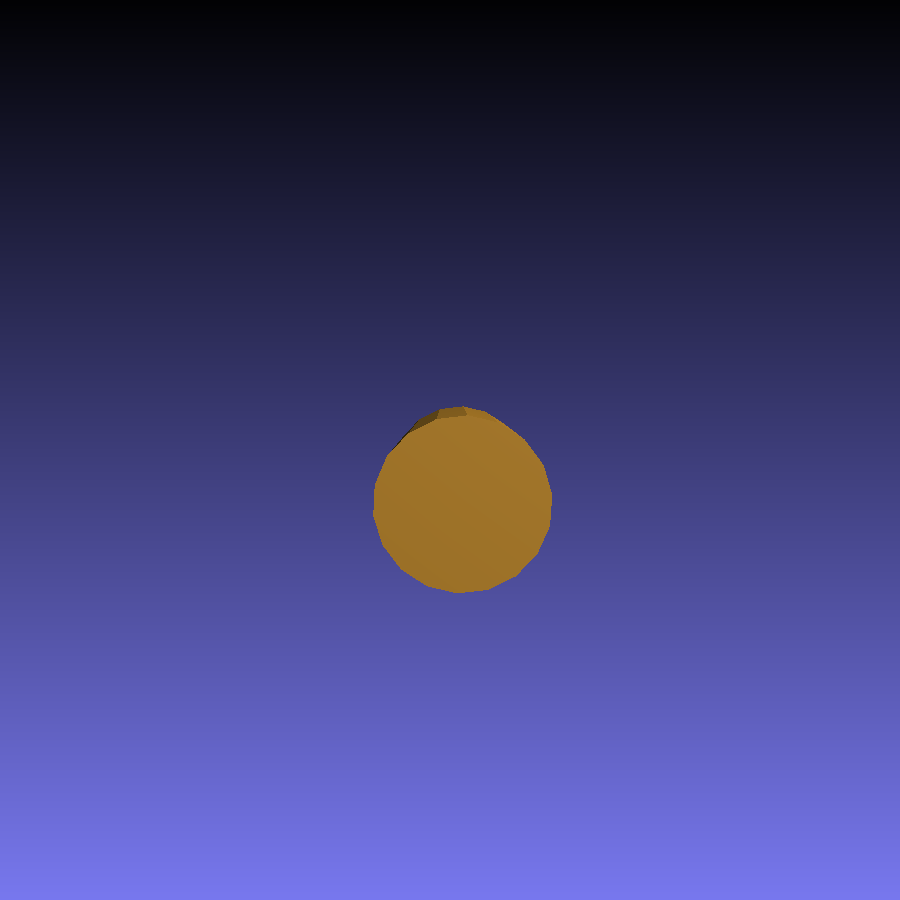cargo_g: (371, 406, 553, 596)
